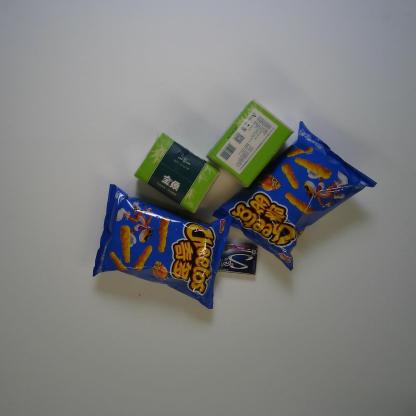Gum: (211, 240, 258, 276)
Puffed Food: (212, 120, 376, 272), (92, 184, 232, 310)
Tissue: (206, 98, 294, 189), (132, 132, 219, 214)
